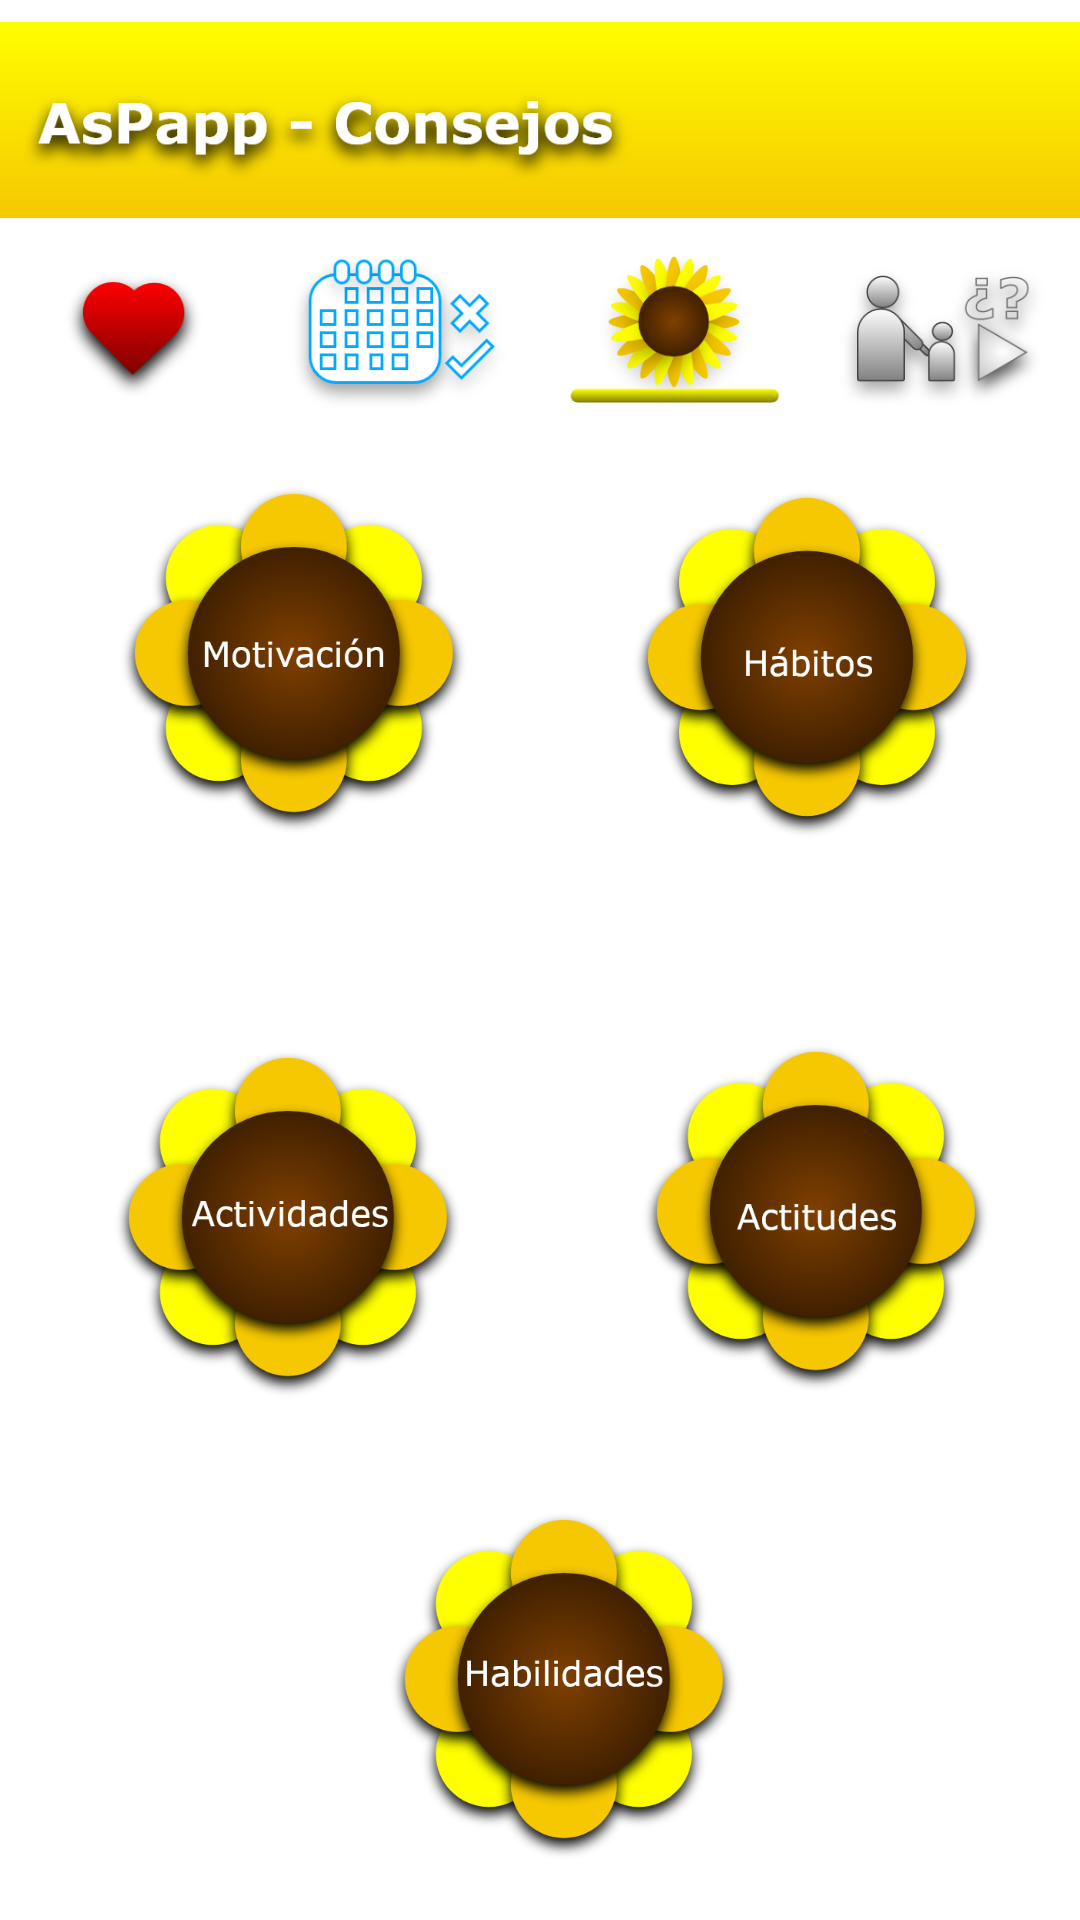

Icon click points for this 1080w x 1920h phone screenshot, format (x,y):
amorometros: (134,335)
calendario: (399,328)
dinamicas: (940,334)
